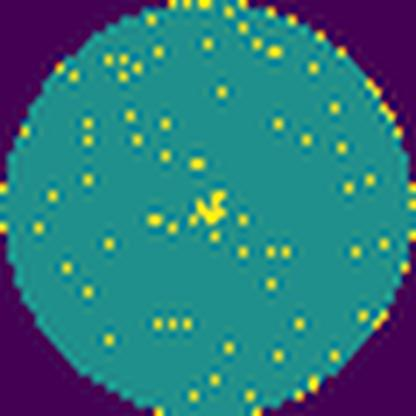Center: (192, 188, 228, 226)
